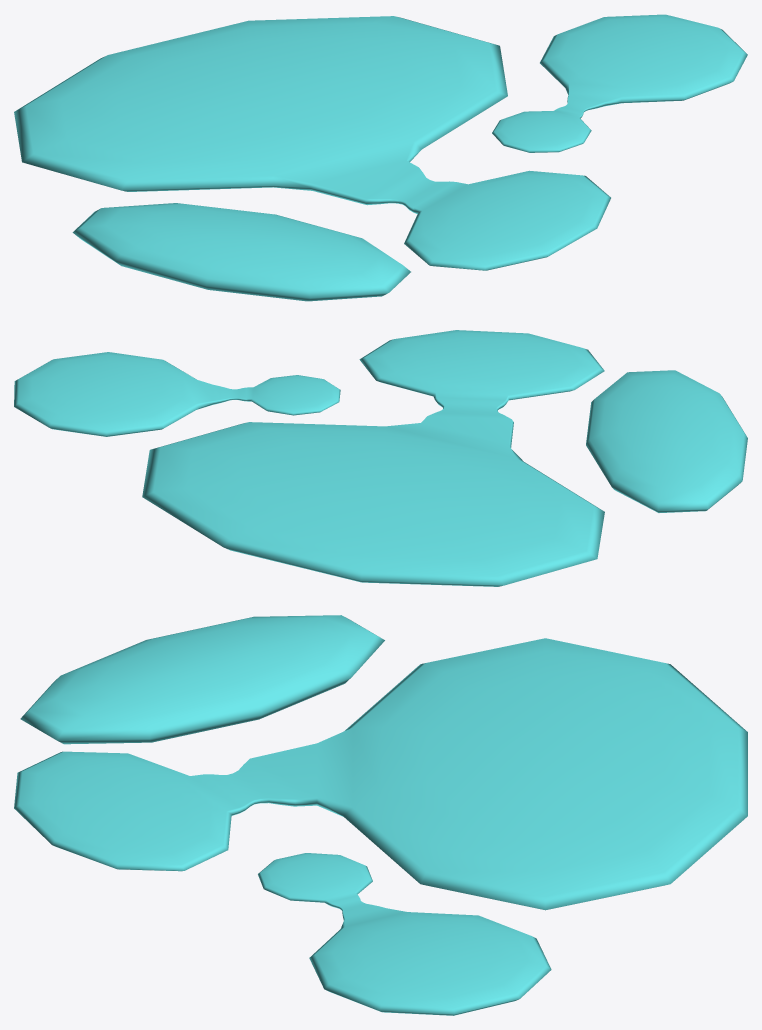
The model's file is WaterSpill.fbx.
The picture shows the model from 3 angles, top to bottom: view 1: azimuth 30°, elevation 25°; view 2: azimuth 150°, elevation 25°; view 3: azimuth 270°, elevation 25°; orthographic projection. The views are drawn at different scales.
Parts seen in each view (by area): view 1: pSphere13; view 2: pSphere13; view 3: pSphere13.
Boxes of the visible parts, x1,y1,x2,y2 form: pSphere13: (14,14,747,301); pSphere13: (14,330,747,586); pSphere13: (14,615,747,1015).
Size of the model in its own units: 4.4 by 0.2262 by 3.45.
